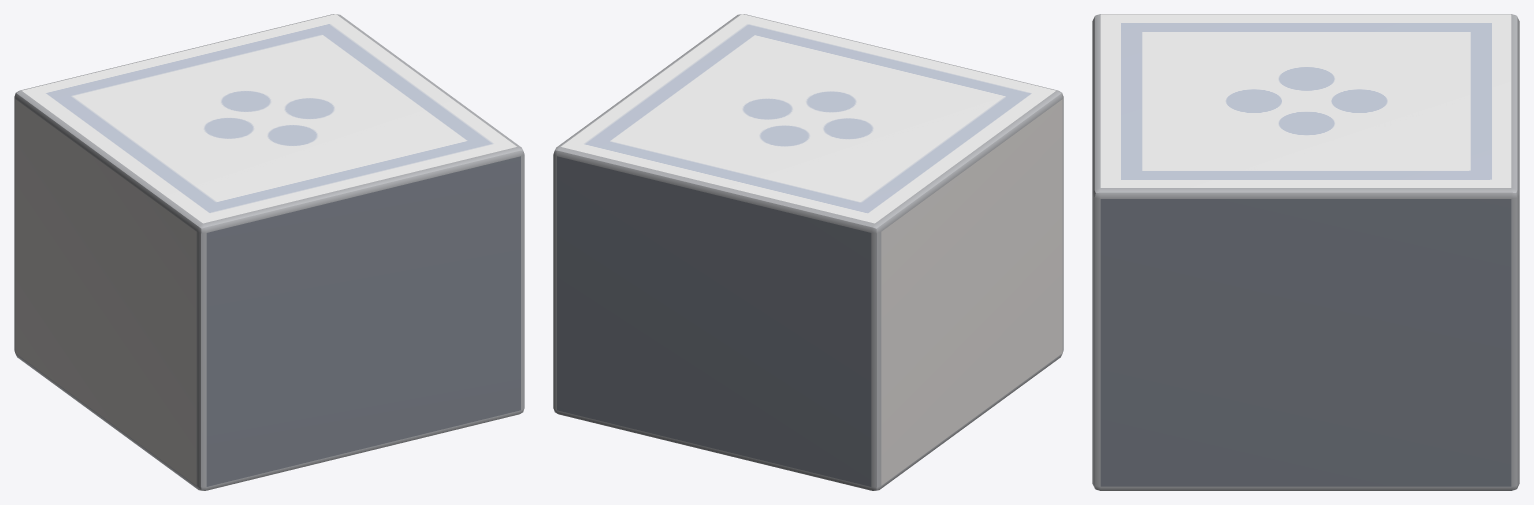
File: whiteboard.fbx
3 renders of one model, left to right at view 1: azimuth 30°, elevation 25°; view 2: azimuth 150°, elevation 25°; view 3: azimuth 270°, elevation 25°, orthographic. The views are drawn at different scales.
Parts seen in each view (by area): view 1: whiteboard; view 2: whiteboard; view 3: whiteboard.
Part boxes in pixels (left/top/right/bottom): whiteboard: left=14, top=14, right=524, bottom=490; whiteboard: left=553, top=14, right=1063, bottom=490; whiteboard: left=1092, top=14, right=1519, bottom=490.
Size of the model in its own units: 0.64 by 0.5 by 0.64.
Materials: 4 (1 with a texture image).
